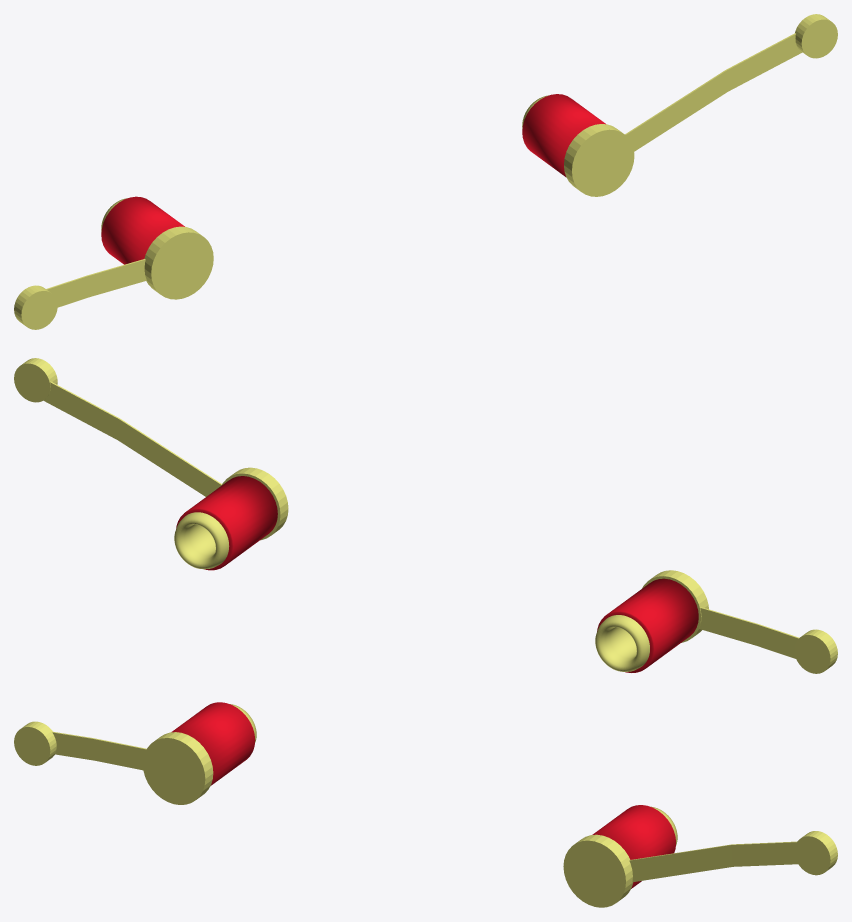
The model's file is ContactRoad.glb.
The picture shows the model from 3 angles, top to bottom: view 1: azimuth 30°, elevation 25°; view 2: azimuth 150°, elevation 25°; view 3: azimuth 330°, elevation 25°; orthographic projection.
Visible parts, largest first — view 1: Основа контакта 2, Изолятор контакта #1; view 2: Изолятор контакта #1, Основа контакта 2; view 3: Основа контакта 2, Изолятор контакта #1.
Part boxes in pixels (<box>): Основа контакта 2: <box>14,14,837,329</box>; Изолятор контакта #1: <box>101,94,605,264</box>; Изолятор контакта #1: <box>174,476,698,672</box>; Основа контакта 2: <box>14,358,837,673</box>; Основа контакта 2: <box>14,721,837,907</box>; Изолятор контакта #1: <box>171,702,677,888</box>.
Bounding box in the file's own units: 1.24 × 0.1781 × 0.1568.
